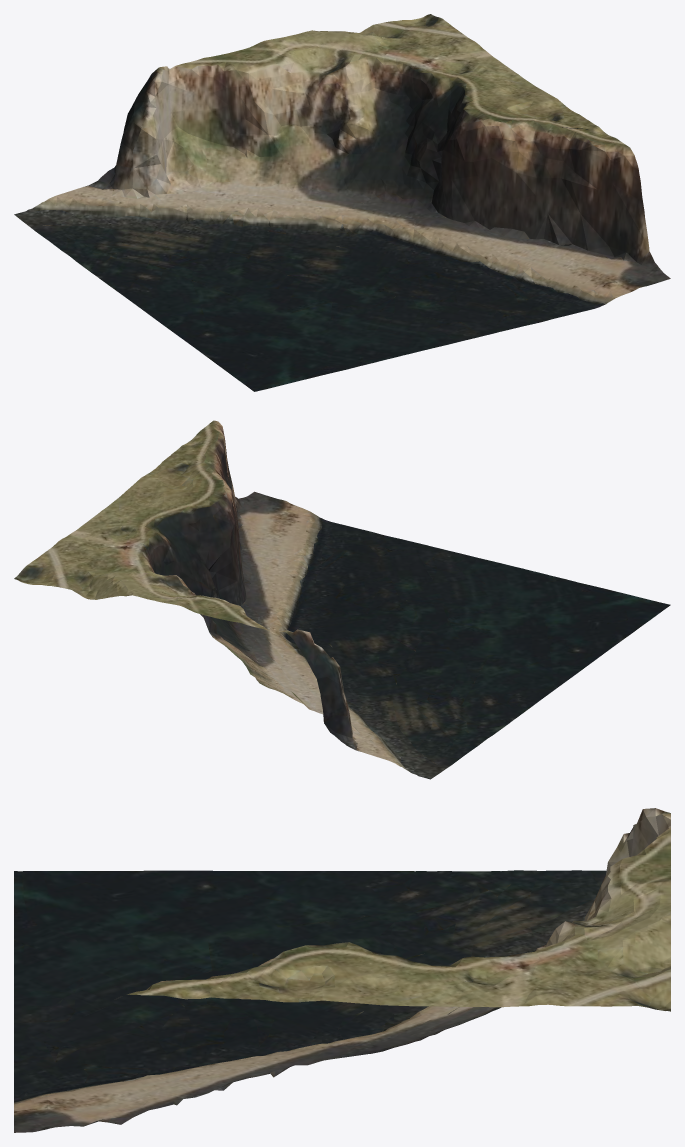
3 renders of one model, top to bottom at view 1: azimuth 30°, elevation 25°; view 2: azimuth 150°, elevation 25°; view 3: azimuth 270°, elevation 25°, orthographic. The views are drawn at different scales.
Size of the model in its own units: 209 by 55.03 by 209.
Materials: 3 (3 with a texture image).
